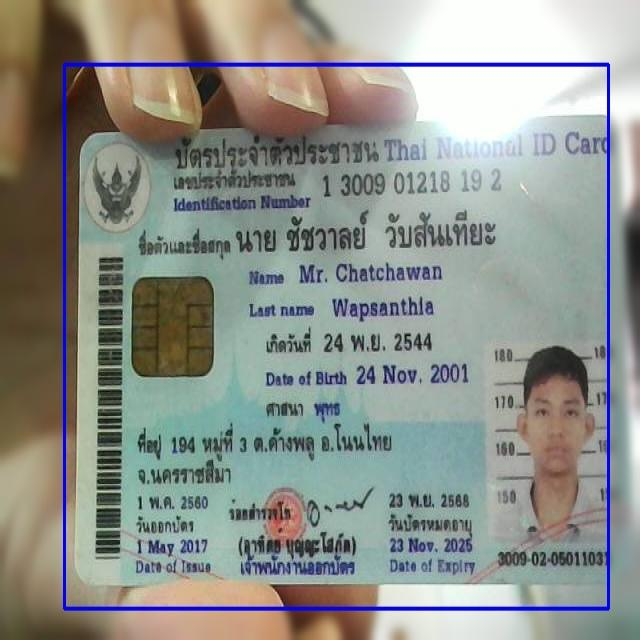Address_th: (127, 416, 398, 497)
Date_of_Birth: (354, 358, 472, 391)
Date_of_Expiry: (383, 532, 478, 561)
Date_of_Issue: (133, 536, 216, 558)
First_Name: (296, 258, 444, 286)
ID_Number: (319, 166, 508, 201)
Image: (484, 339, 618, 546)
Last_Name: (329, 292, 437, 324)
Thai_Name: (233, 210, 505, 257)
